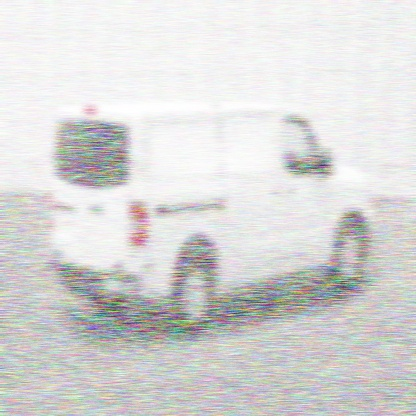Vehicle: (38, 86, 391, 352)
